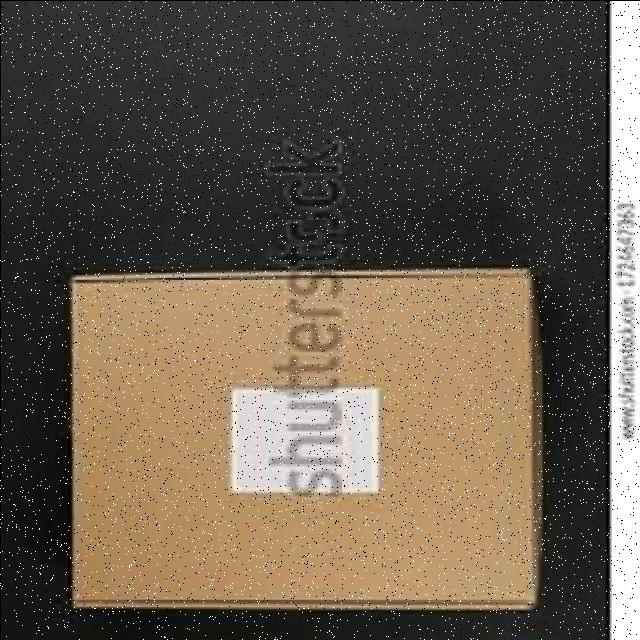normal: (59, 258, 542, 618)
